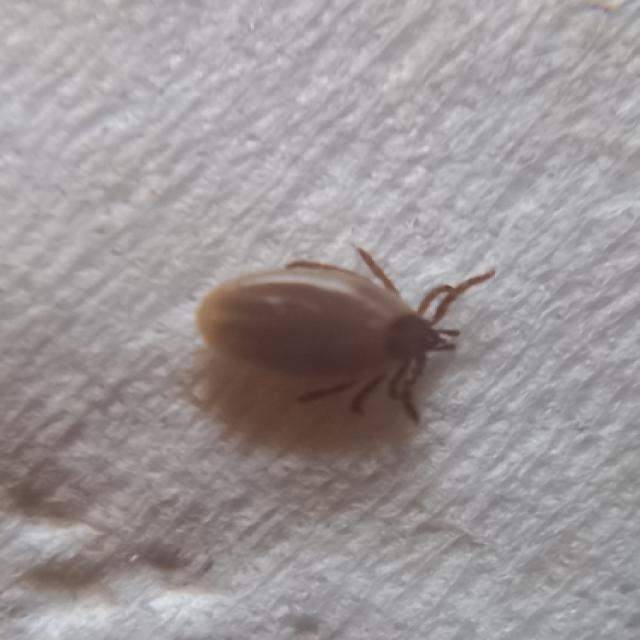Ixodes Ricinus-F-Fed: (196, 251, 495, 422)
